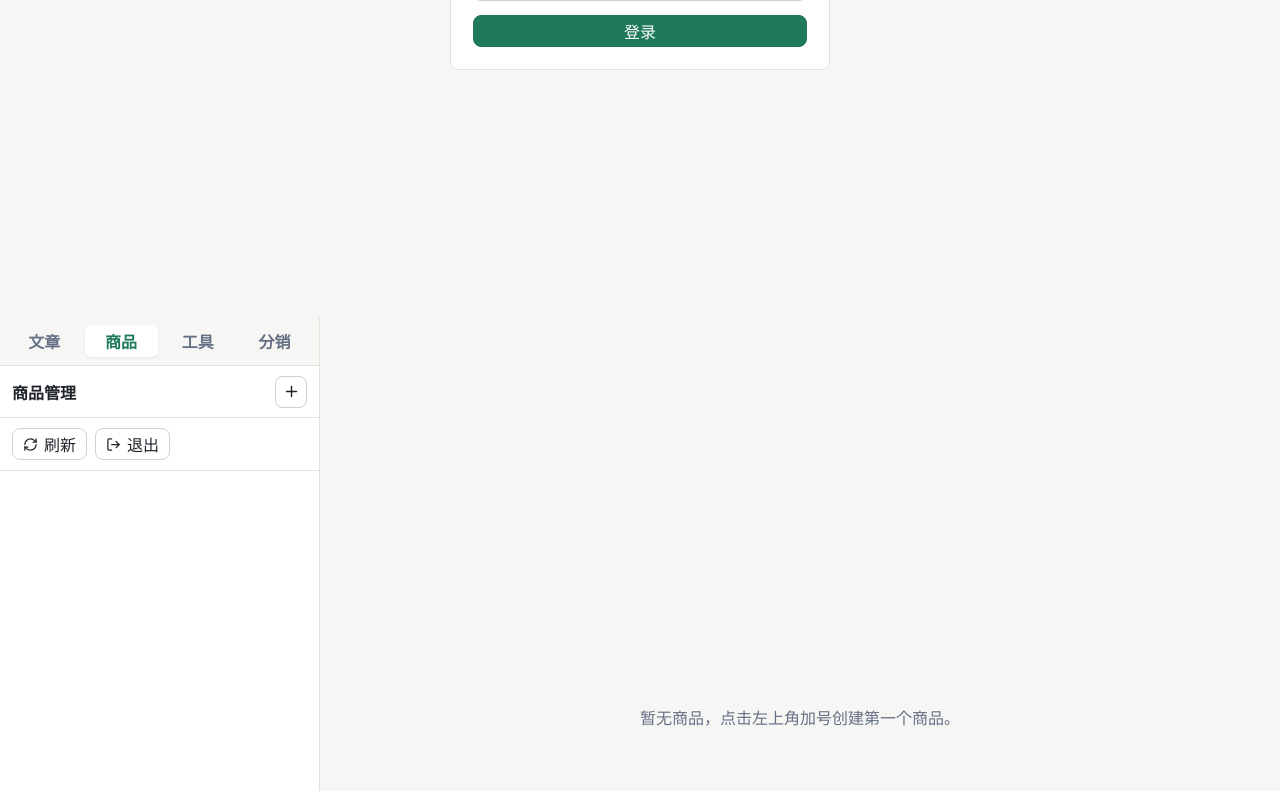
product save feedback UI › shows create failures even when there is no active product
(page scrolled)
Step 1. Click the button named "新建商品" → x=291, y=392, box [275,376,307,408]
(page scrolled)
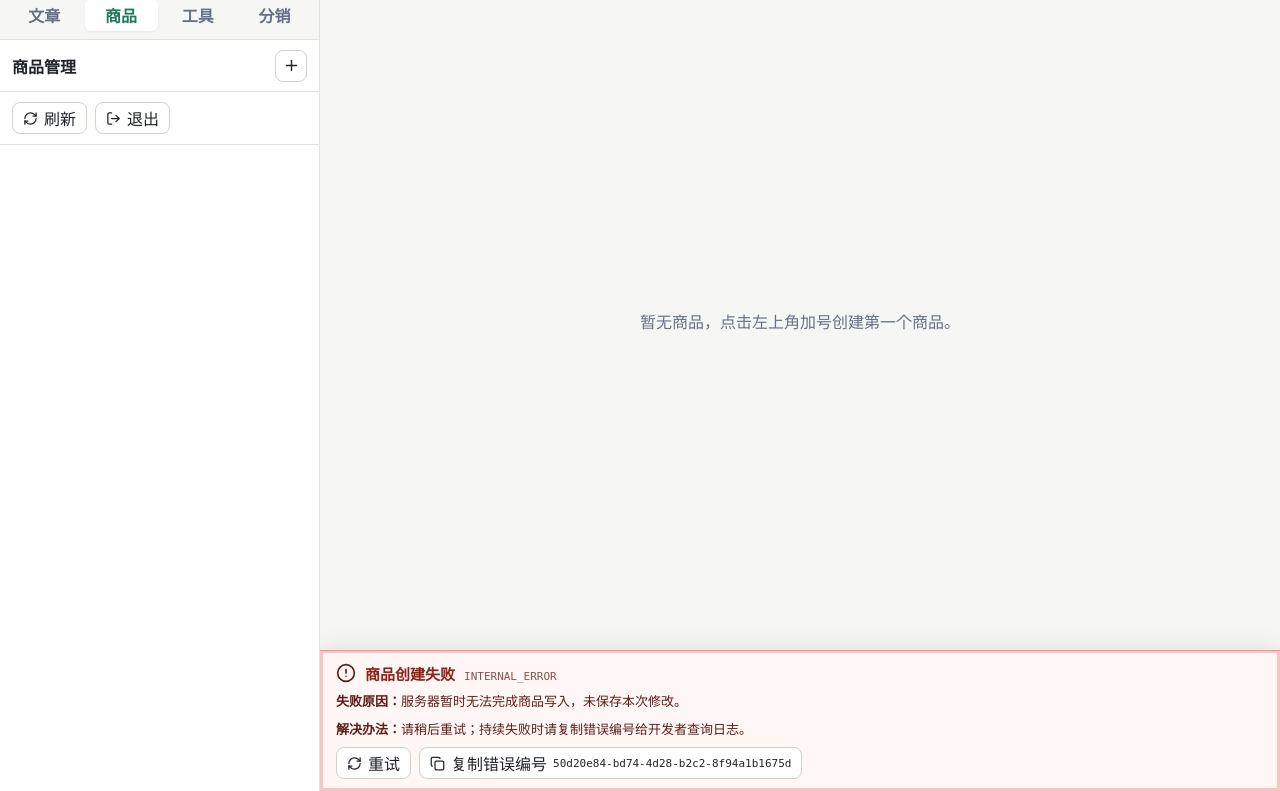
expect the message shows "商品创建失败": met, box [365,664,455,684]
expect the message shows "稍后重试": met, box [401,720,752,738]
expect the message shows "50d20e84-bd74-4d28-b2c2-8f94a1b1675d": met, box [419,747,802,779]
